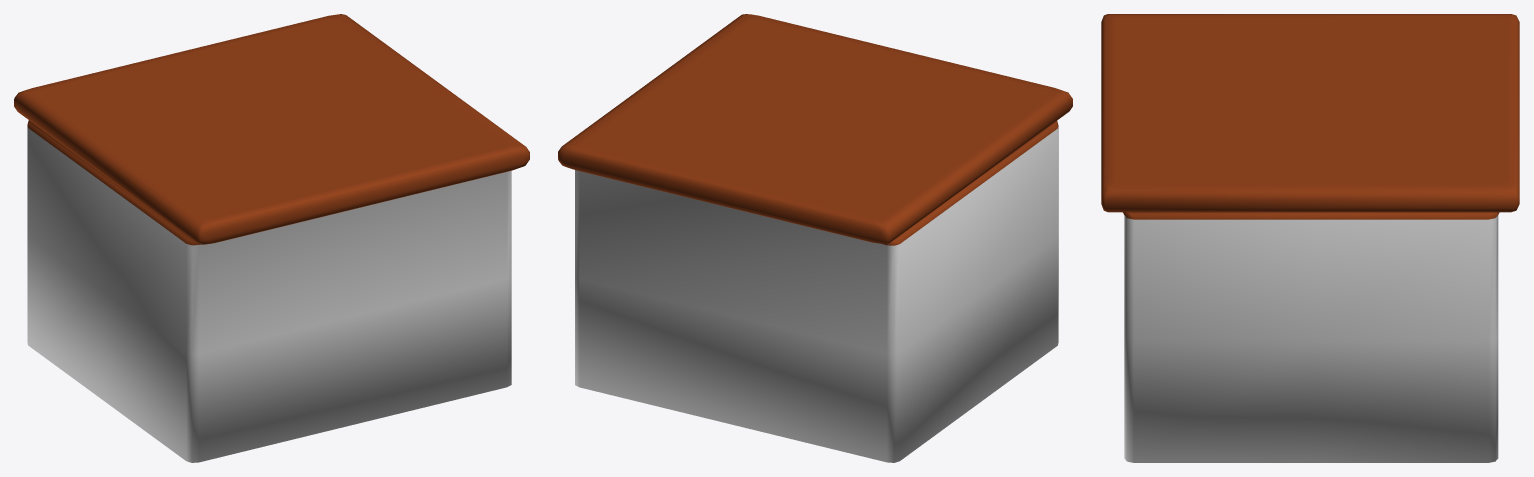
Rendered from resizedbench2.glb.
The picture shows the model from 3 angles, left to right: view 1: azimuth 30°, elevation 25°; view 2: azimuth 150°, elevation 25°; view 3: azimuth 270°, elevation 25°; orthographic projection. The views are drawn at different scales.
Parts seen in each view (by area): view 1: Cube.004; view 2: Cube.004; view 3: Cube.004.
Boxes of the visible parts, left/top/right/bottom form: Cube.004: left=14, top=14, right=529, bottom=462; Cube.004: left=558, top=14, right=1072, bottom=462; Cube.004: left=1101, top=14, right=1519, bottom=462.
Size of the model in its own units: 3.07 by 2.16 by 2.99.
